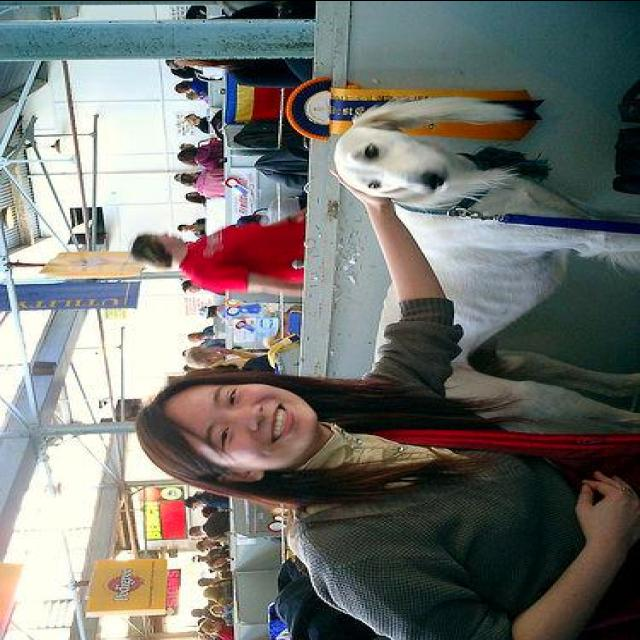saluki: (331, 94, 638, 436)
